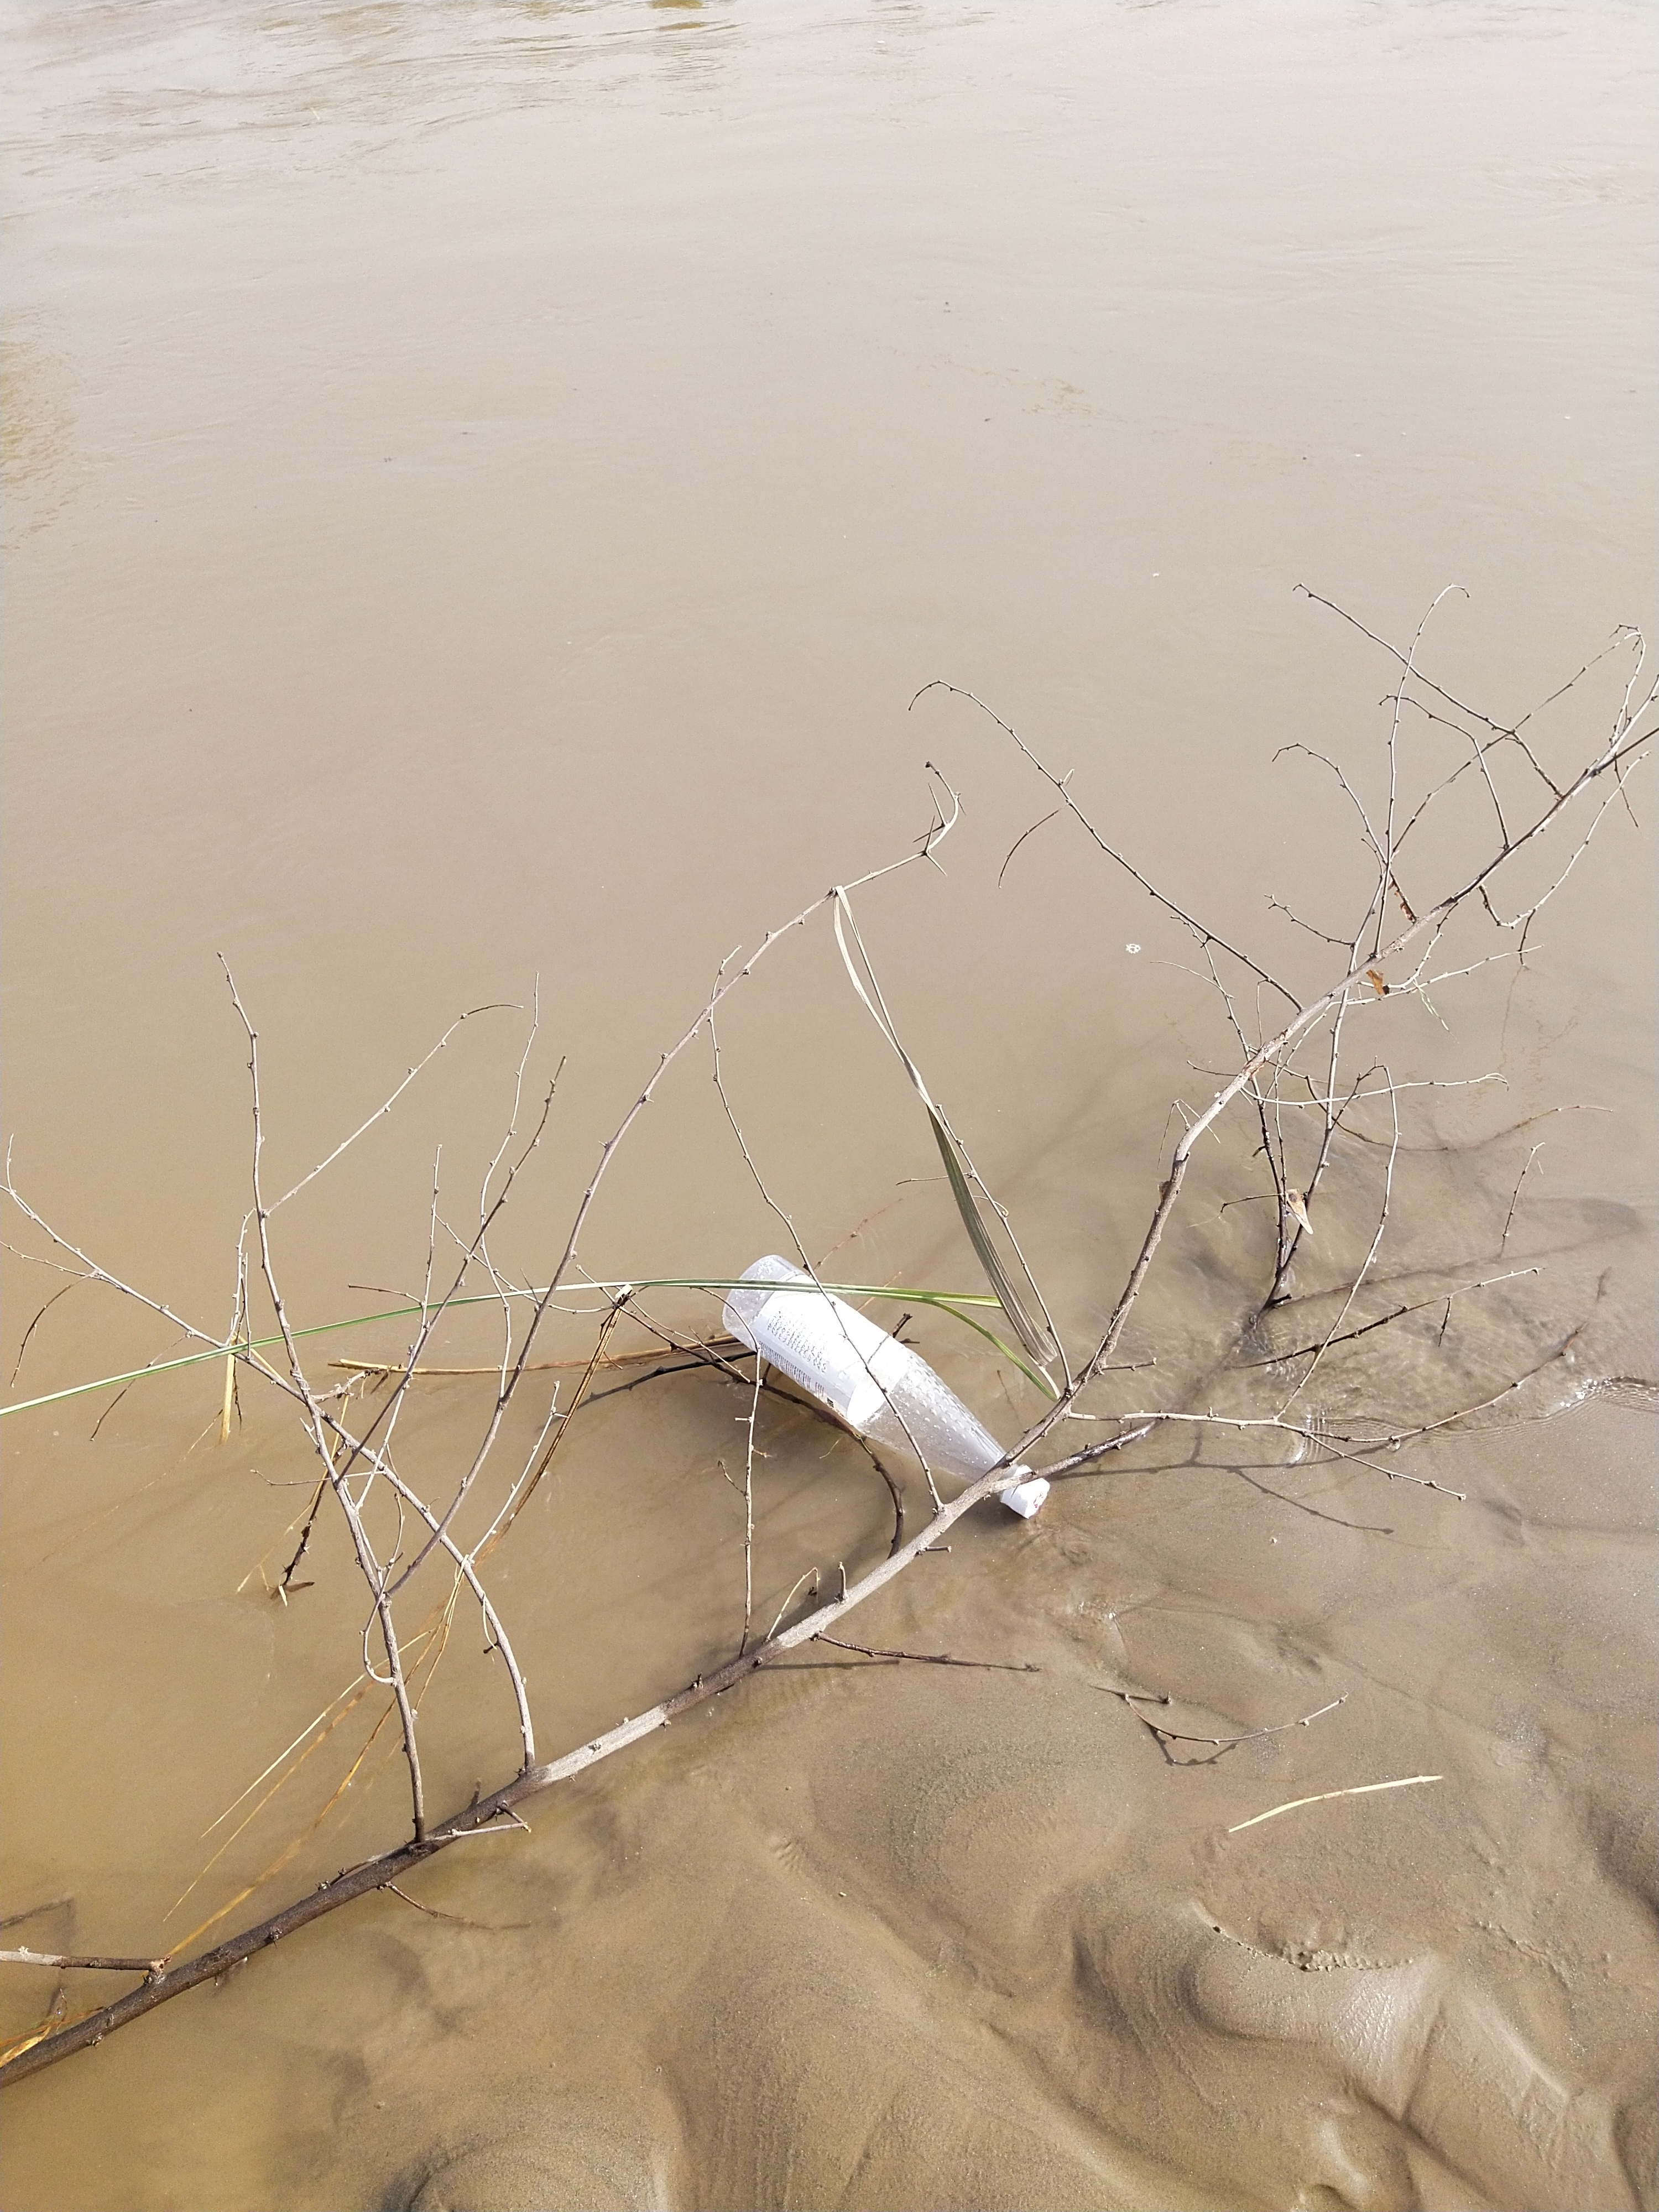Plastic Bottle: (721, 1254, 1051, 1519)
